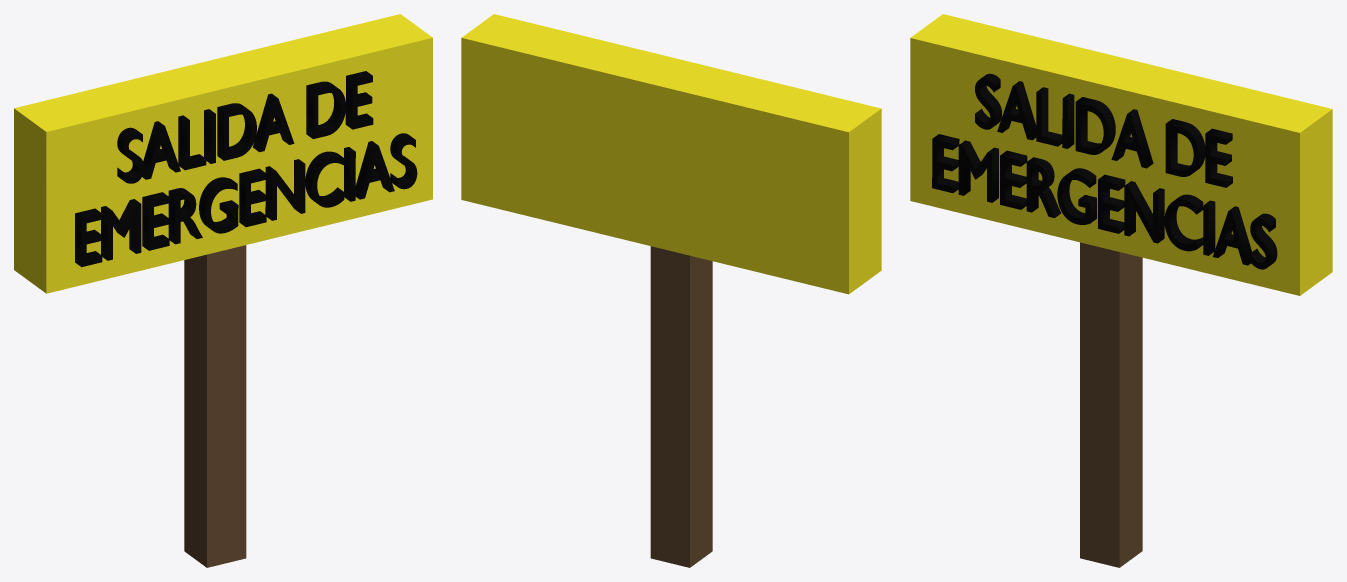
The model's file is SalidaEmergencia.glb.
3 renders of one model, left to right at view 1: azimuth 30°, elevation 25°; view 2: azimuth 150°, elevation 25°; view 3: azimuth 330°, elevation 25°, orthographic.
Visible parts, largest first — view 1: Cubo.004, Texto.002, Cubo.002; view 2: Cubo.004, Cubo.002; view 3: Cubo.004, Texto.002, Cubo.002.
Boxes of the visible parts, left/top/right/bottom form: Cubo.004: left=14, top=14, right=432, bottom=293; Texto.002: left=75, top=71, right=417, bottom=267; Cubo.002: left=184, top=245, right=246, bottom=567; Cubo.004: left=461, top=14, right=881, bottom=294; Cubo.002: left=650, top=246, right=712, bottom=567; Cubo.004: left=910, top=14, right=1332, bottom=295; Texto.002: left=932, top=73, right=1277, bottom=269; Cubo.002: left=1080, top=242, right=1142, bottom=567.
Size of the model in its own units: 3.02 by 3.58 by 0.5306.
